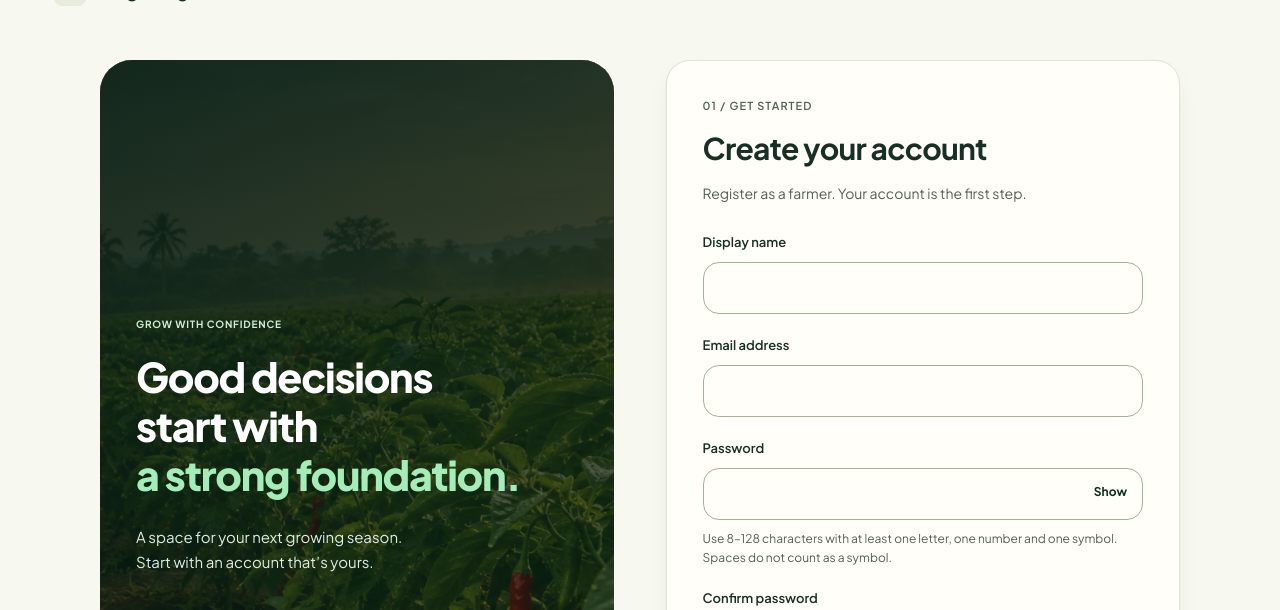
it: account entry forms › blocks mismatched confirmation and keeps passwords masked by default
Type "Synthetic farmer" into the field labelled "Display name".
click(923, 288); type("Synthetic farmer")  # box [703,262,1143,314]
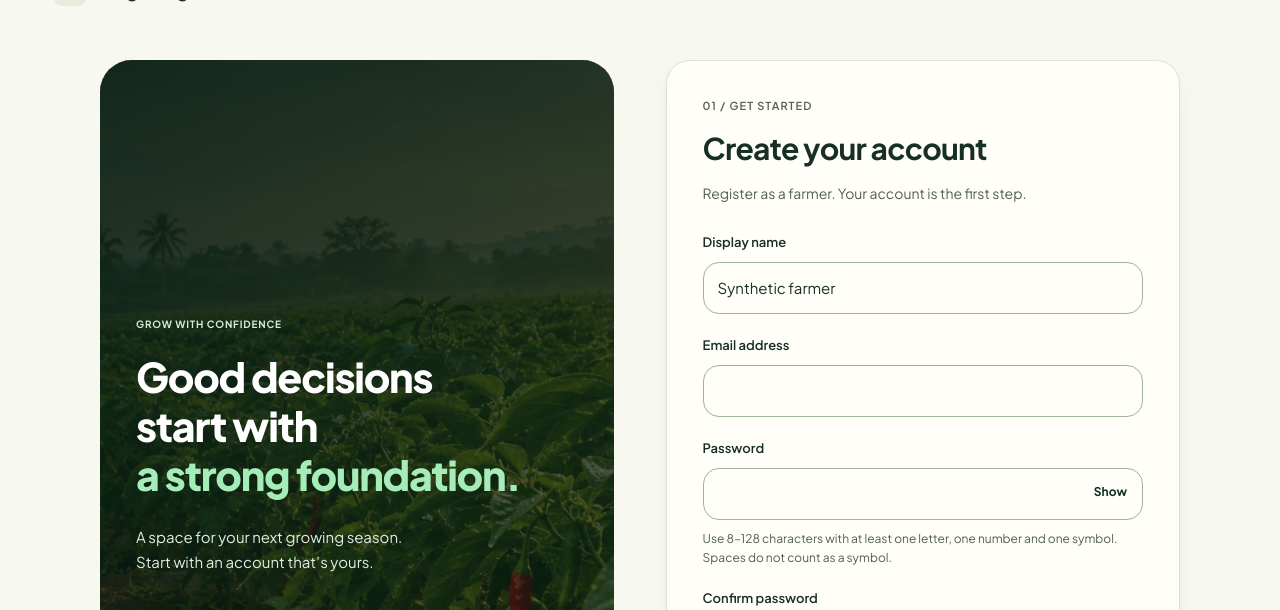
Type "farmer@example.com" into the field labelled "Email address".
click(923, 391); type("farmer@example.com")  # box [703,365,1143,417]
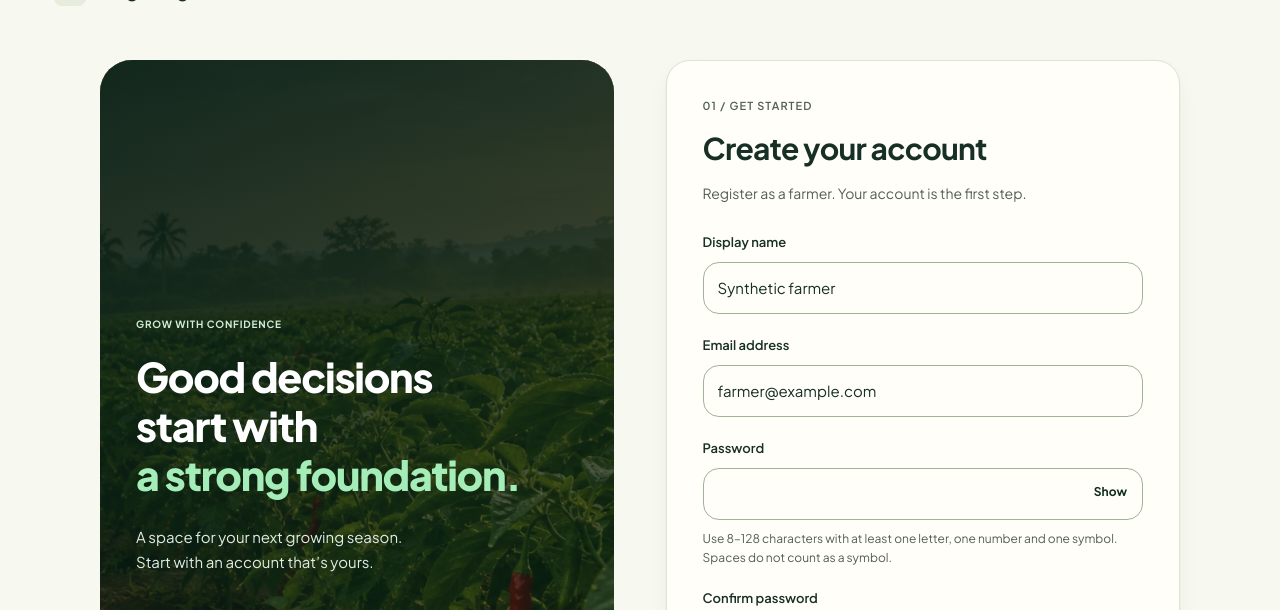
Type "a synthetic growing season password 1!" into the password field labelled "Password".
click(923, 494); type("a synthetic growing season password 1!")  # box [703,468,1143,520]
(page scrolled)
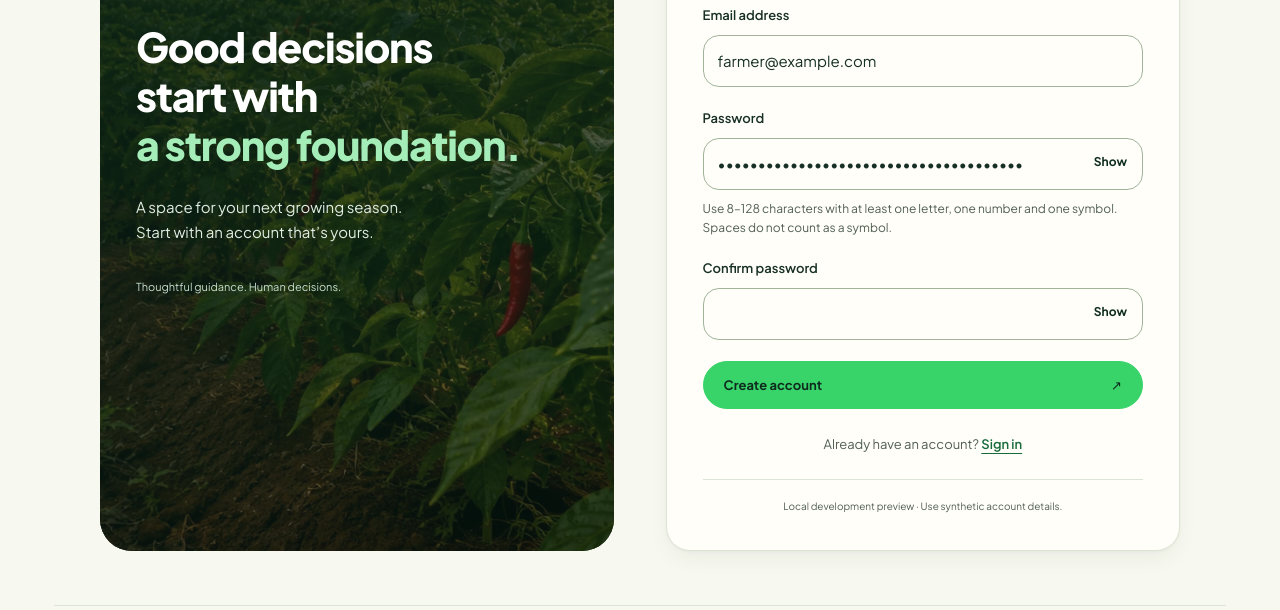
Type "a different synthetic password" into the password field labelled "Confirm password".
click(923, 314); type("a different synthetic password")  # box [703,288,1143,340]
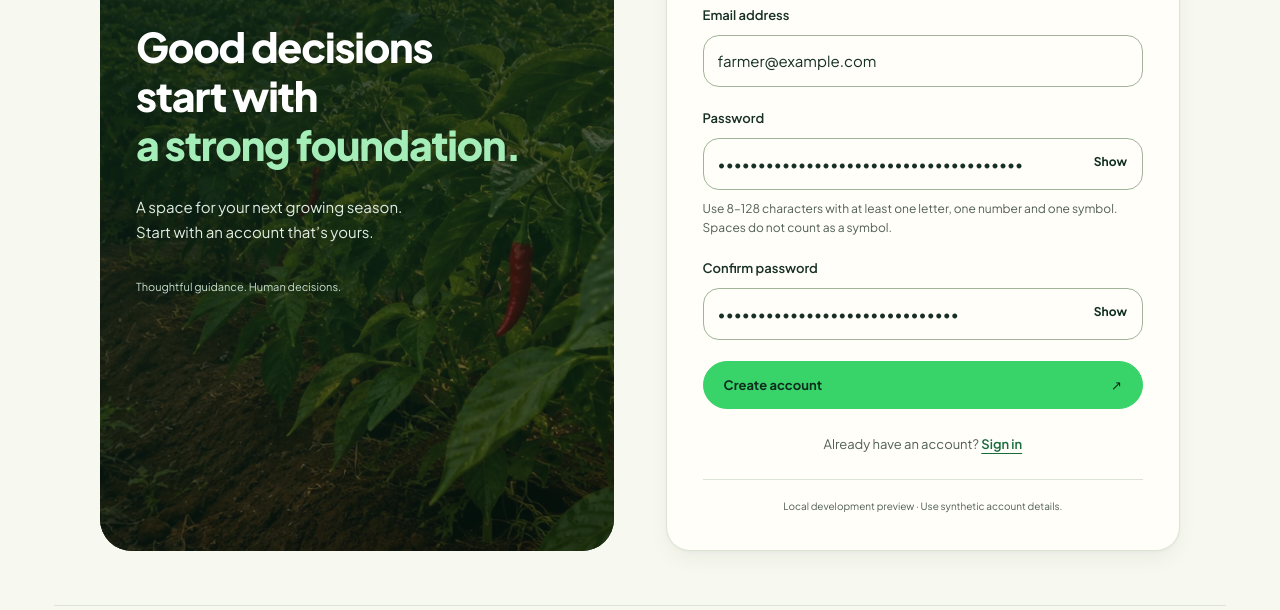
Click the button "Create account ↗".
click(773, 385)  # box [703,361,1143,409]
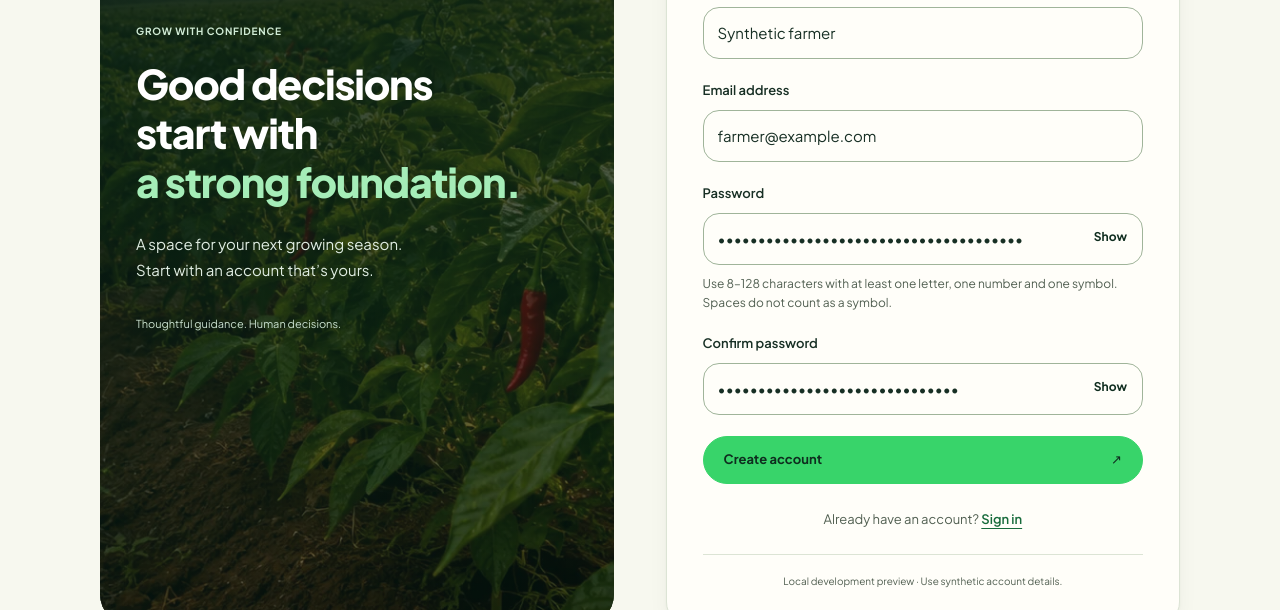
Click the button with aria-label "Show password".
click(1110, 237)  # box [1082,215,1139,259]
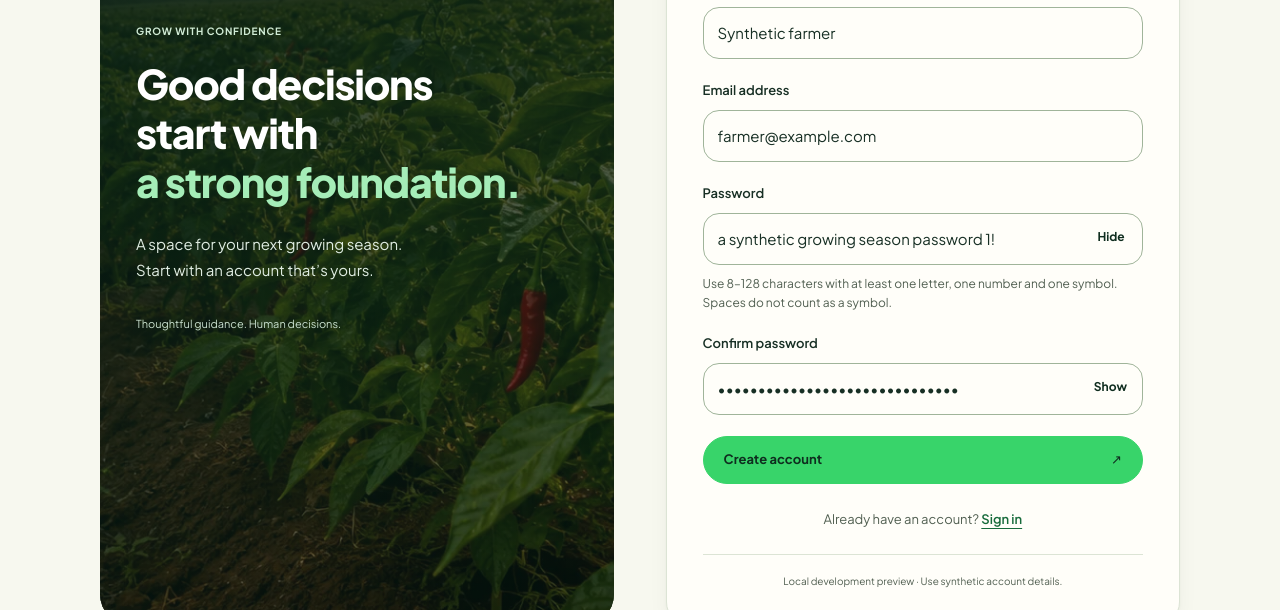
Result: the field labelled "Password" shows its text at [703,213,1143,265]
